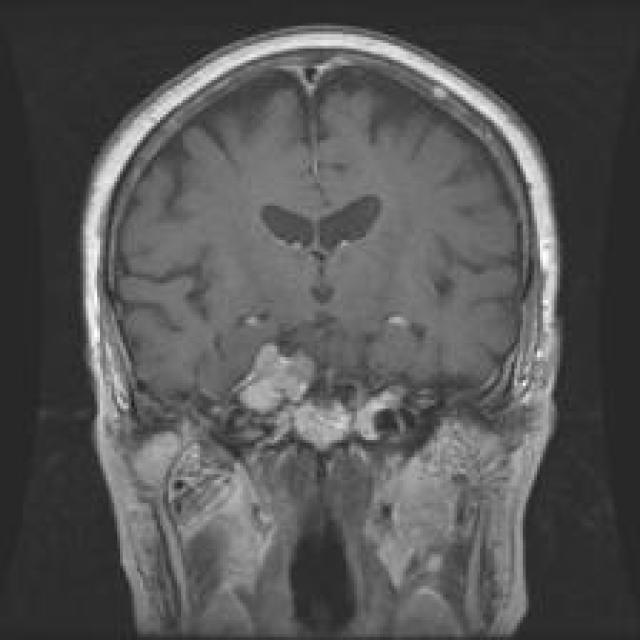meningioma_tumor: (219, 326, 338, 428)
